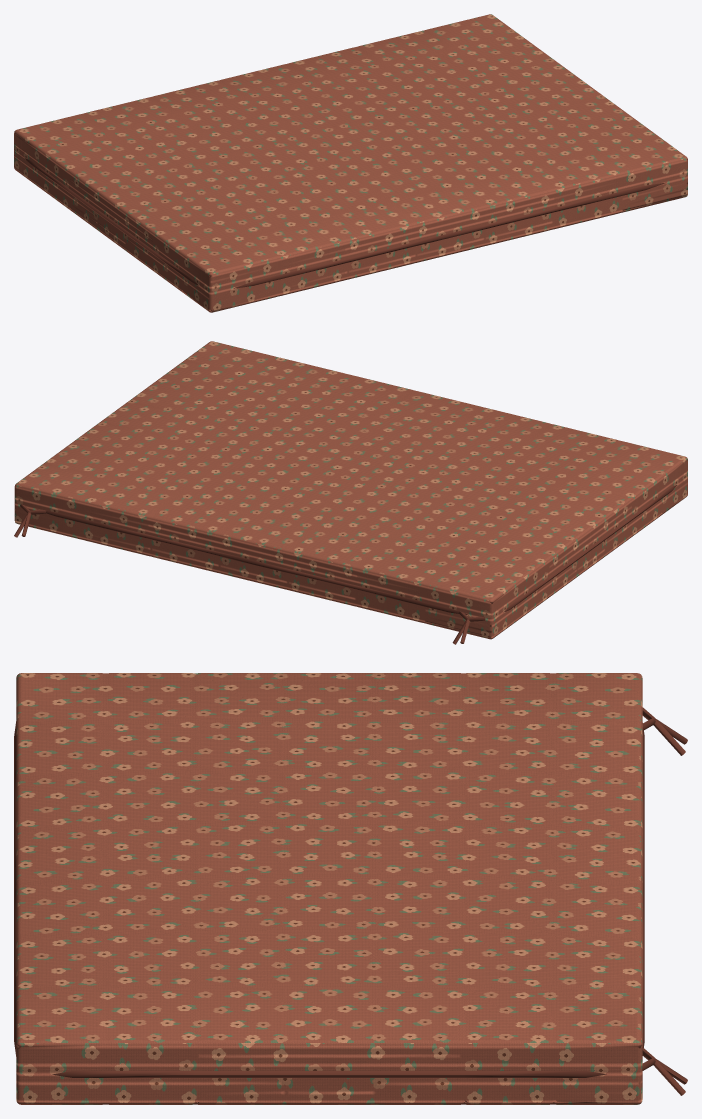
File: Salon_Dem_NgoiDai_Kia.glb
The picture shows the model from 3 angles, top to bottom: view 1: azimuth 30°, elevation 25°; view 2: azimuth 150°, elevation 25°; view 3: azimuth 270°, elevation 25°; orthographic projection. The views are drawn at different scales.
Parts seen in each view (by area): view 1: geometry_0; view 2: geometry_0; view 3: geometry_0.
Boxes of the visible parts, x1,y1,x2,y2 form: geometry_0: (14,14,687,312); geometry_0: (14,341,687,644); geometry_0: (14,673,687,1104).
Bounding box in the file's own units: 0.772 × 0.0774 × 0.5898.
2 materials, 1 textured.
